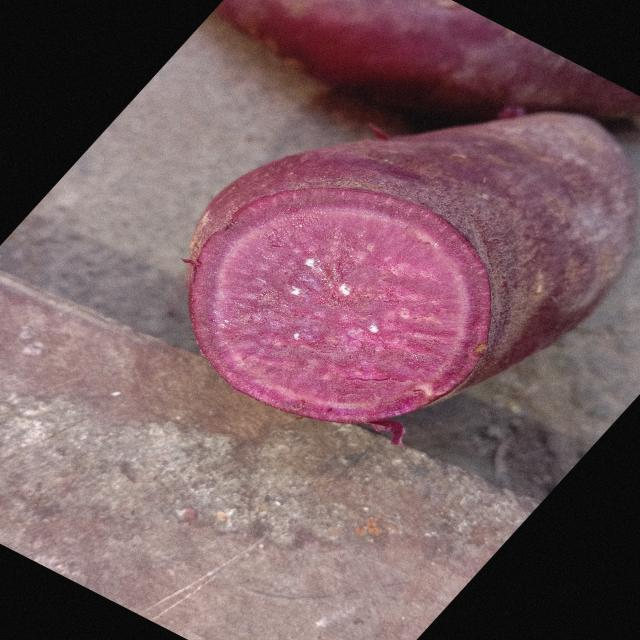Healthy Sweet Potato: (190, 189, 490, 422)
